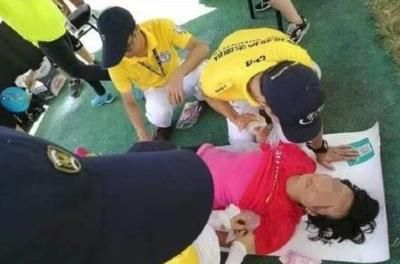fall: (139, 127, 384, 254)
